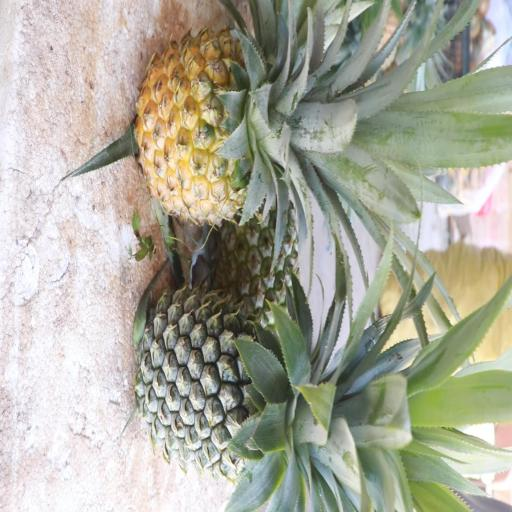Pineapple - v8 v1: (128, 23, 433, 236)
